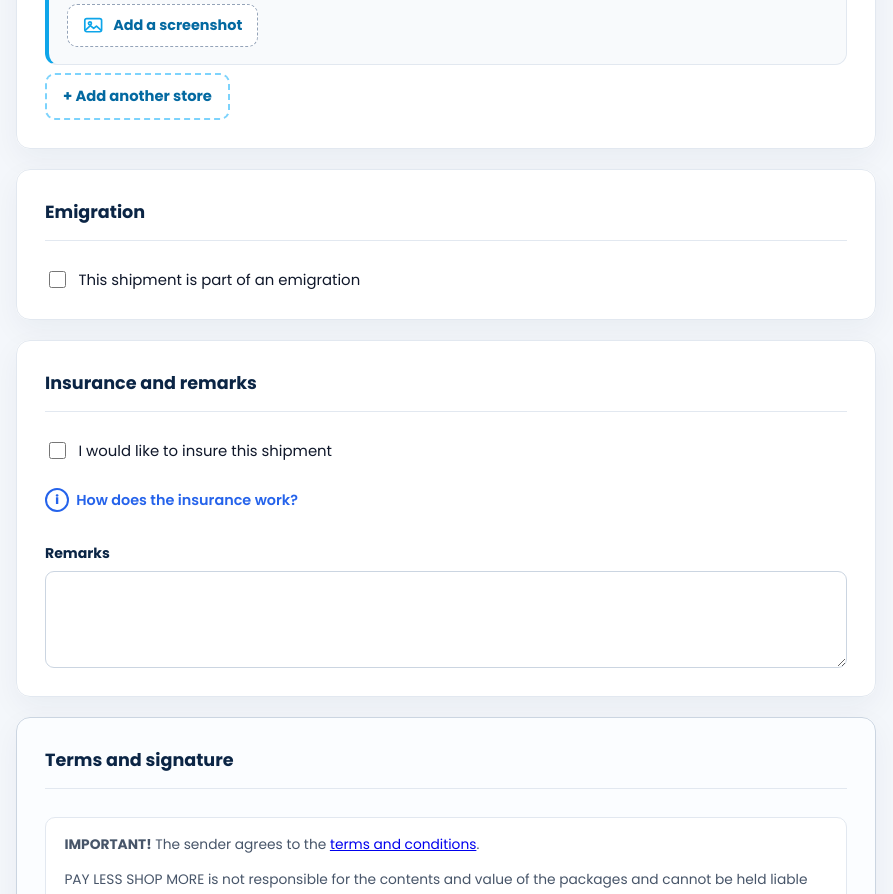
Test: booking: insurance terms › open by themselves when the customer chooses to insure
(page scrolled)
Click the checkbox labelled "I would like to insure this shipment".
click(57, 450)  # box x1=49 y1=442 x2=66 y2=459
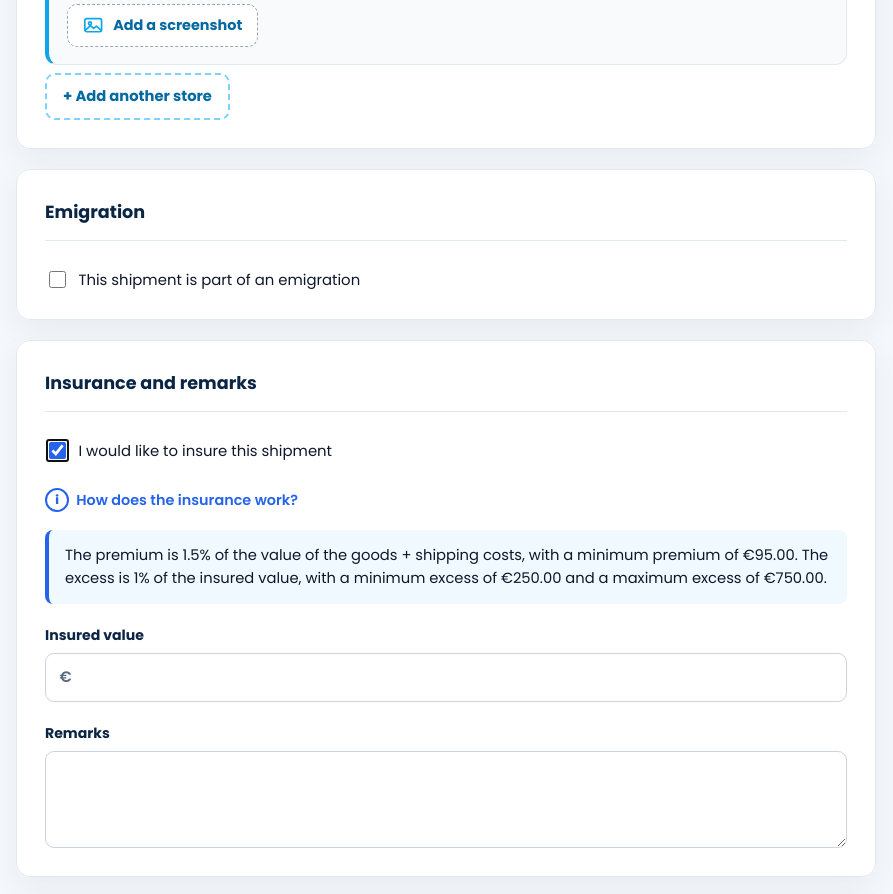
expect the text "minimum premium of €95.00" is shown: met, box x1=65 y1=545 x2=828 y2=588
